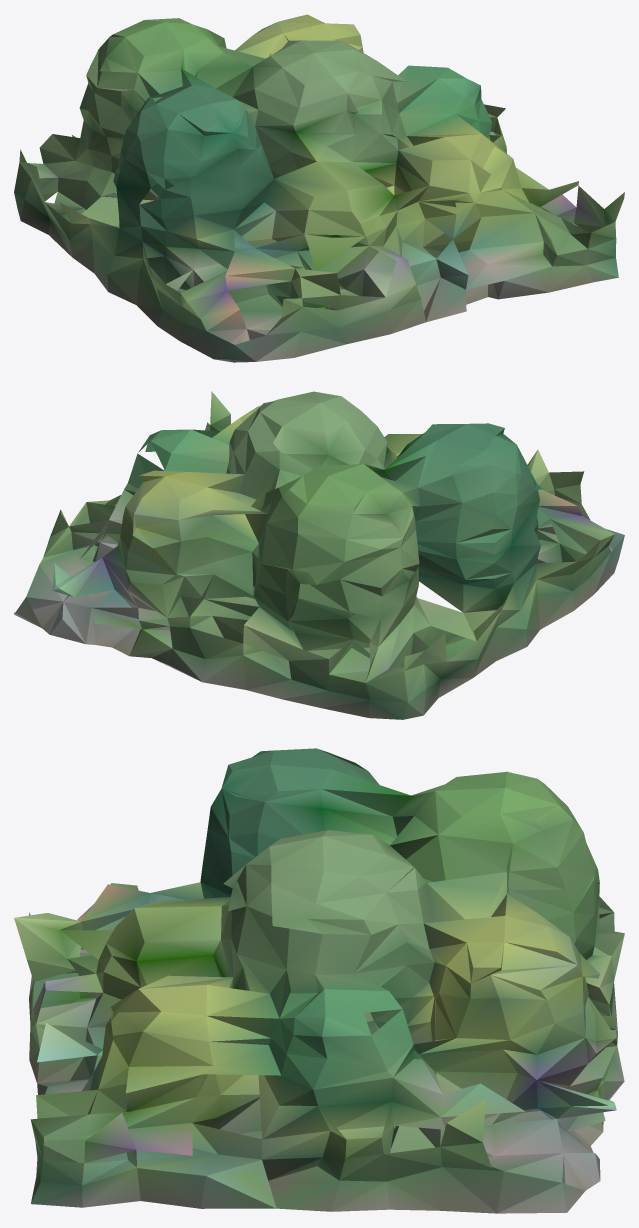
Rendered from decoration_bush_cluster_lod2.glb.
3 renders of one model, top to bottom at view 1: azimuth 30°, elevation 25°; view 2: azimuth 150°, elevation 25°; view 3: azimuth 270°, elevation 25°, orthographic. The views are drawn at different scales.
Visible parts, largest first — view 1: world; view 2: world; view 3: world.
Boxes of the visible parts, x1=… form: world: x1=14, y1=14, x2=624, y2=362; world: x1=14, y1=391, x2=624, y2=719; world: x1=14, y1=748, x2=624, y2=1213.
Size of the model in its own units: 1.76 by 0.7621 by 1.72.
